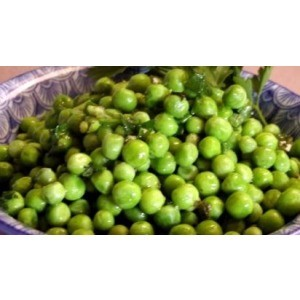green pea_brain food: (58, 109, 235, 207)
